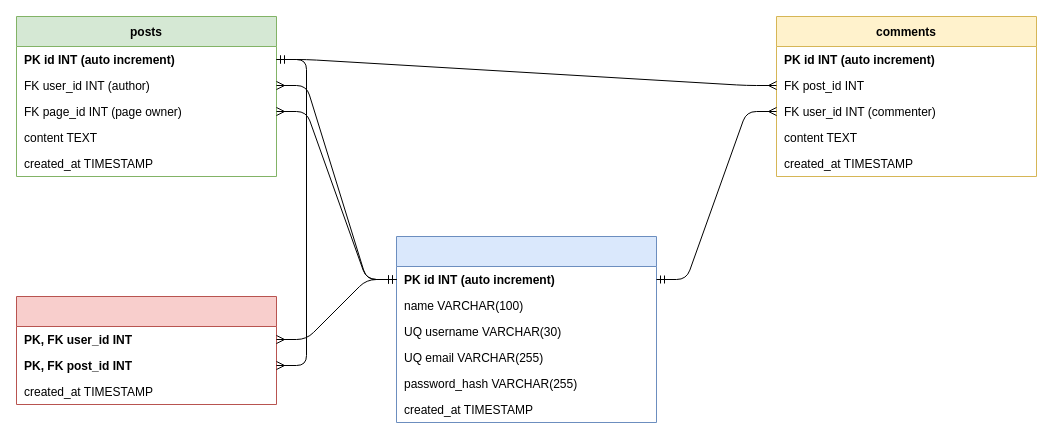
The diagram is 1053 pixels wide and 439 high, and some of its shapes have lost their labels. Here are the shapes that lost their labels. From the top down, the box of each, then its label:
(396, 236, 656, 422): users
(16, 296, 276, 404): likes
